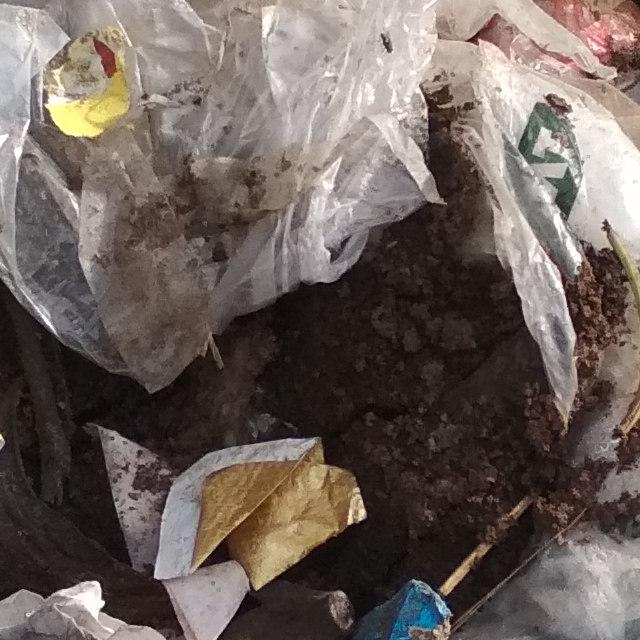plastic: (0, 0, 555, 413)
